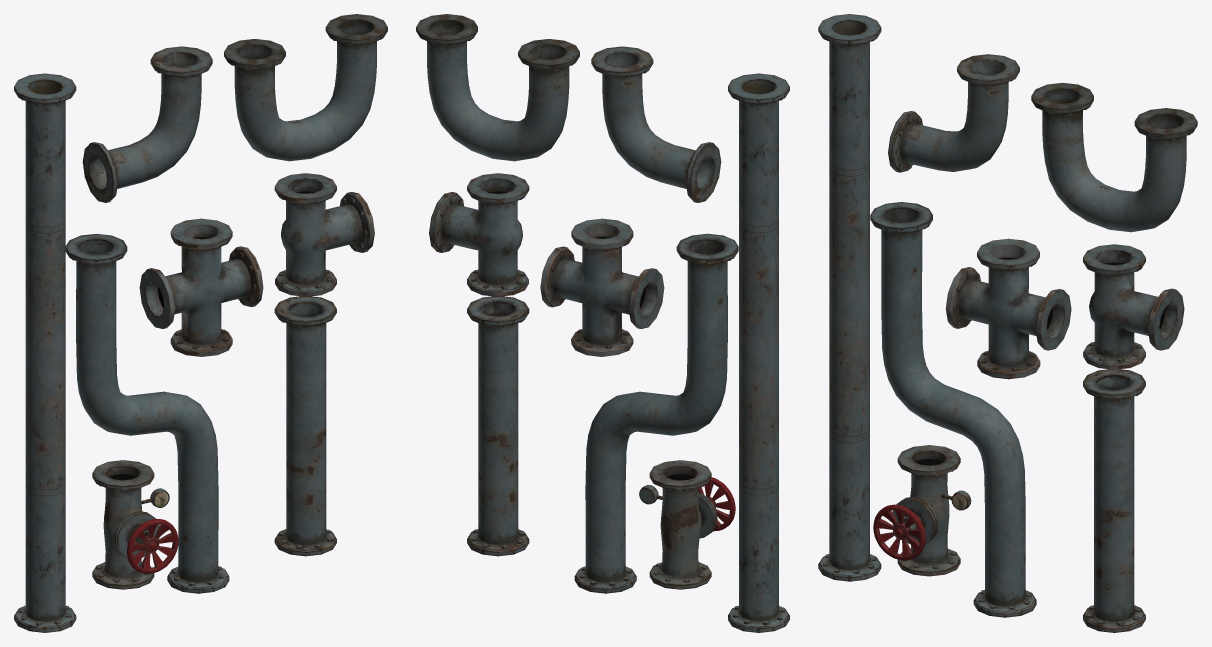
File: modular_industrial_pipes_01.glb
The picture shows the model from 3 angles, left to right: view 1: azimuth 30°, elevation 25°; view 2: azimuth 150°, elevation 25°; view 3: azimuth 330°, elevation 25°; orthographic projection.
Visible parts, largest first — view 1: modular_industrial_pipes_01_pipe01, modular_industrial_pipes_01_pipe05; view 2: modular_industrial_pipes_01_pipe01, modular_industrial_pipes_01_pipe05; view 3: modular_industrial_pipes_01_pipe01, modular_industrial_pipes_01_pipe05.
Boxes of the visible parts, x1,y1,x2,y2 form: modular_industrial_pipes_01_pipe01: (14,46,336,632); modular_industrial_pipes_01_pipe05: (92,14,387,589); modular_industrial_pipes_01_pipe01: (467,46,789,632); modular_industrial_pipes_01_pipe05: (416,14,735,589); modular_industrial_pipes_01_pipe01: (818,14,1145,632); modular_industrial_pipes_01_pipe05: (873,82,1197,576).
Bounding box in the file's own units: 1.4 × 1.95 × 0.3076.
2 materials, 2 textured.
